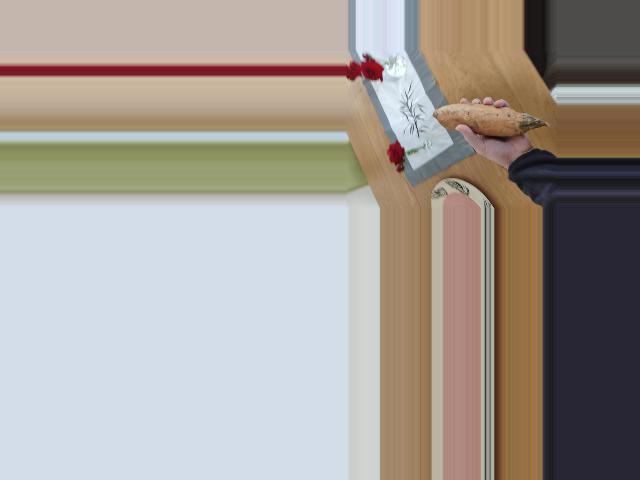sweet_potato: (430, 98, 539, 146)
